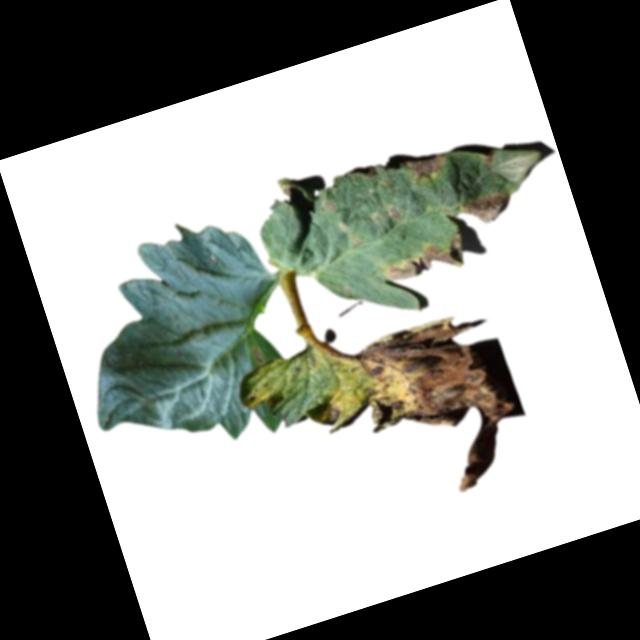Early_blight: (342, 303, 534, 513), (379, 231, 471, 291), (459, 186, 513, 228), (402, 146, 452, 185), (315, 400, 343, 430), (319, 192, 340, 215), (478, 151, 499, 172), (250, 342, 264, 363), (391, 206, 403, 221)
